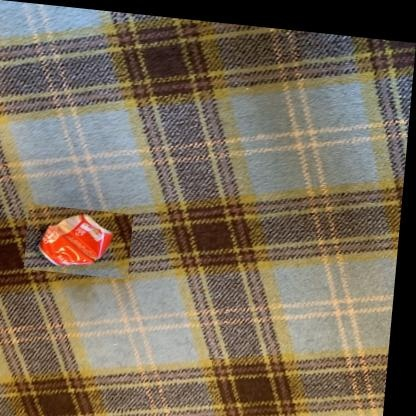trash: (39, 214, 111, 265)
